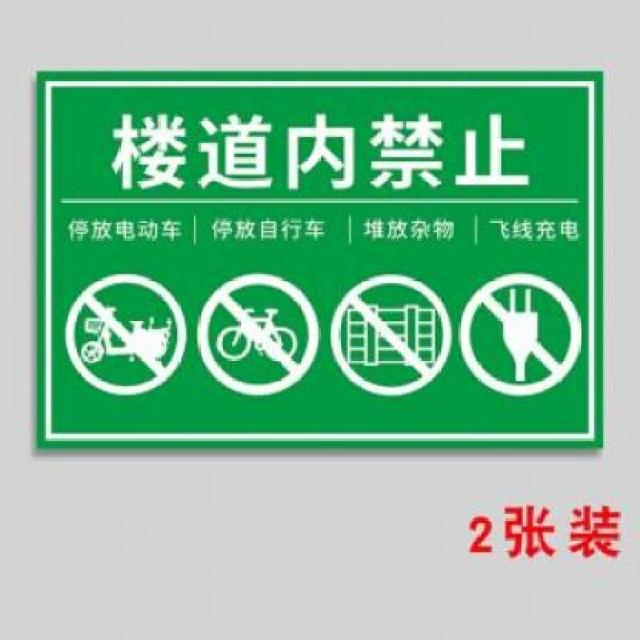exit_sign: (35, 68, 606, 454)
